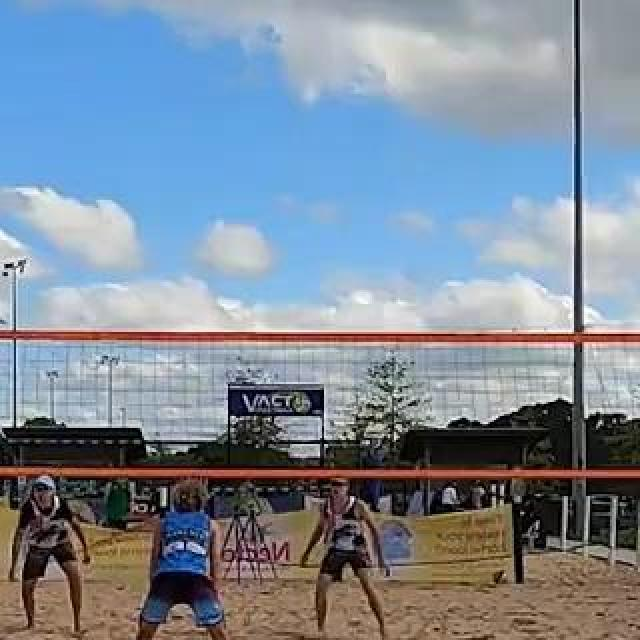volleyball: (492, 568, 508, 586)
